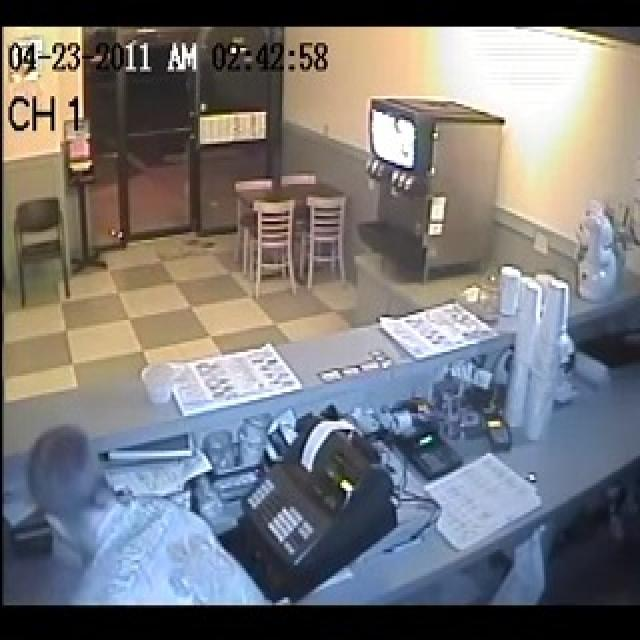thief: (18, 423, 273, 605)
